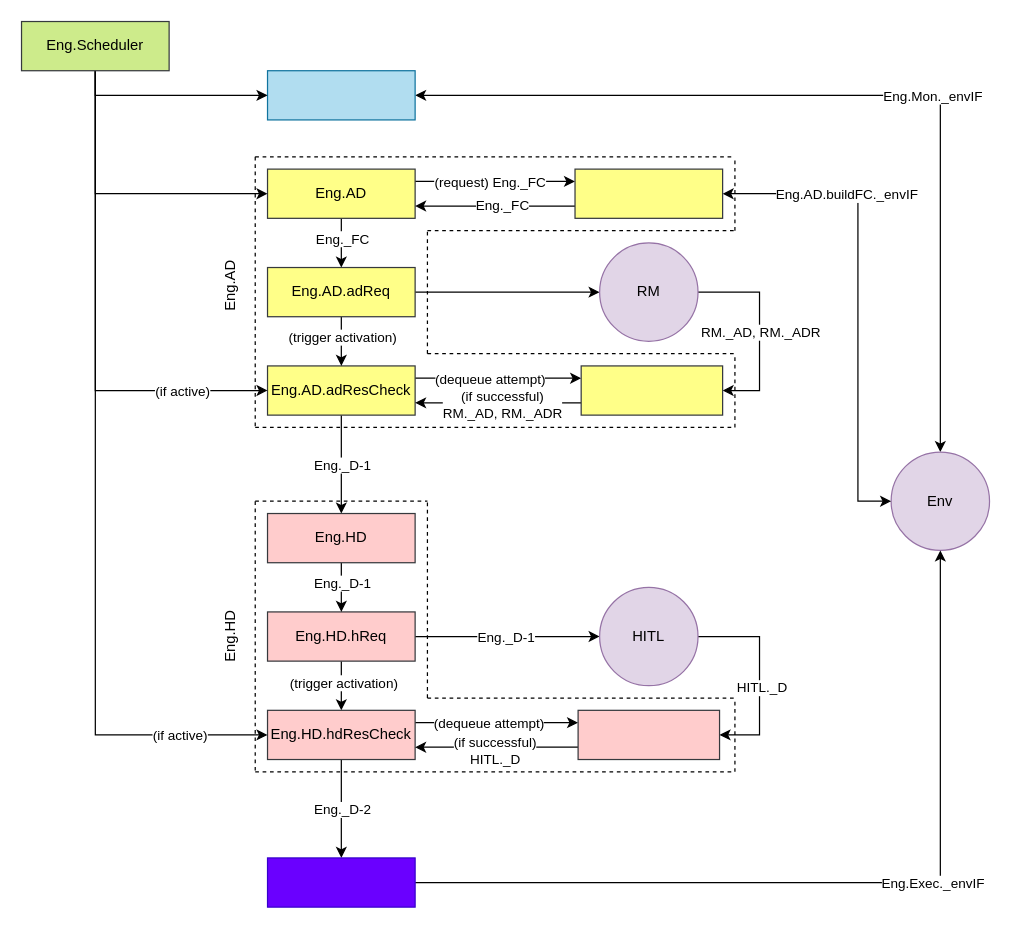
Image size: 1011x929. Some labels were removed from this diagram. Here are the shapes that lost their labels. From the top down, the box of each, then its label:
(266, 69, 415, 120): Eng.Mon
(574, 168, 723, 218): Eng.AD.buildFC
(580, 365, 723, 415): Eng.AD.Q
(577, 709, 720, 760): Eng.HD.Q
(266, 857, 415, 907): Eng.Exec
